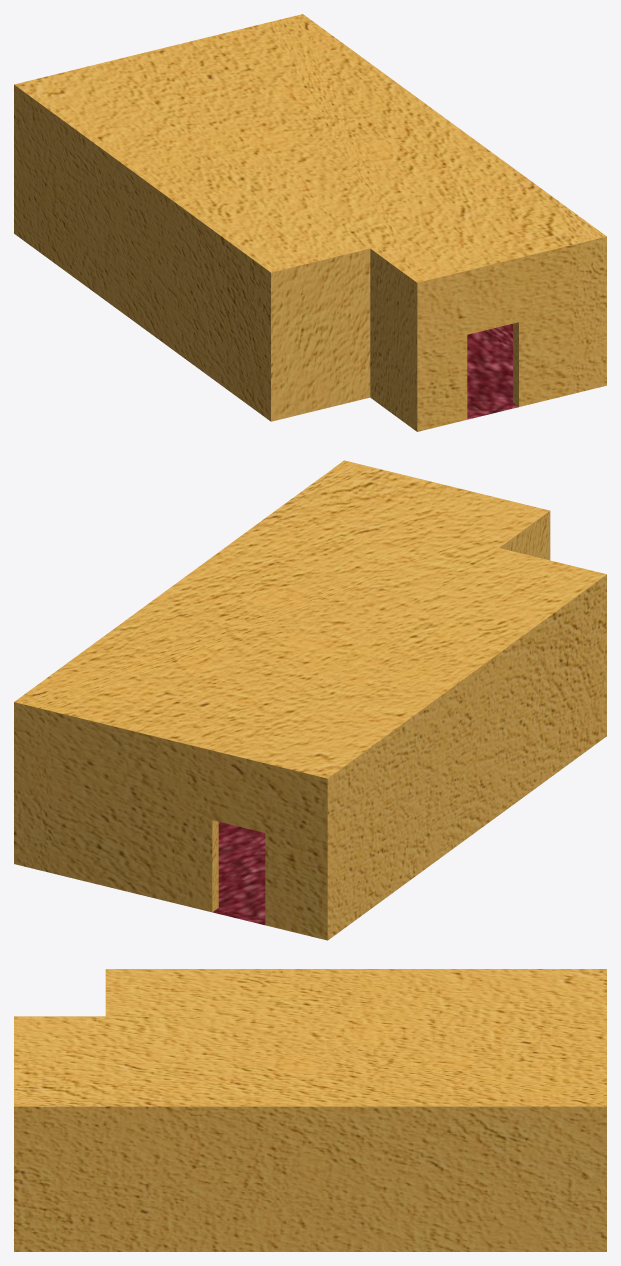
Rendered from hab1.fbx.
The picture shows the model from 3 angles, top to bottom: view 1: azimuth 30°, elevation 25°; view 2: azimuth 150°, elevation 25°; view 3: azimuth 270°, elevation 25°; orthographic projection. The views are drawn at different scales.
Parts seen in each view (by area): view 1: pPlane2; view 2: pPlane2; view 3: pPlane2.
Part boxes in pixels (x1,y1,x2,y2): pPlane2: (14,14,606,431); pPlane2: (14,460,606,940); pPlane2: (14,969,606,1251).
Size of the model in its own units: 42.52 by 20.97 by 77.51.
Materials: 2 (2 with a texture image).
